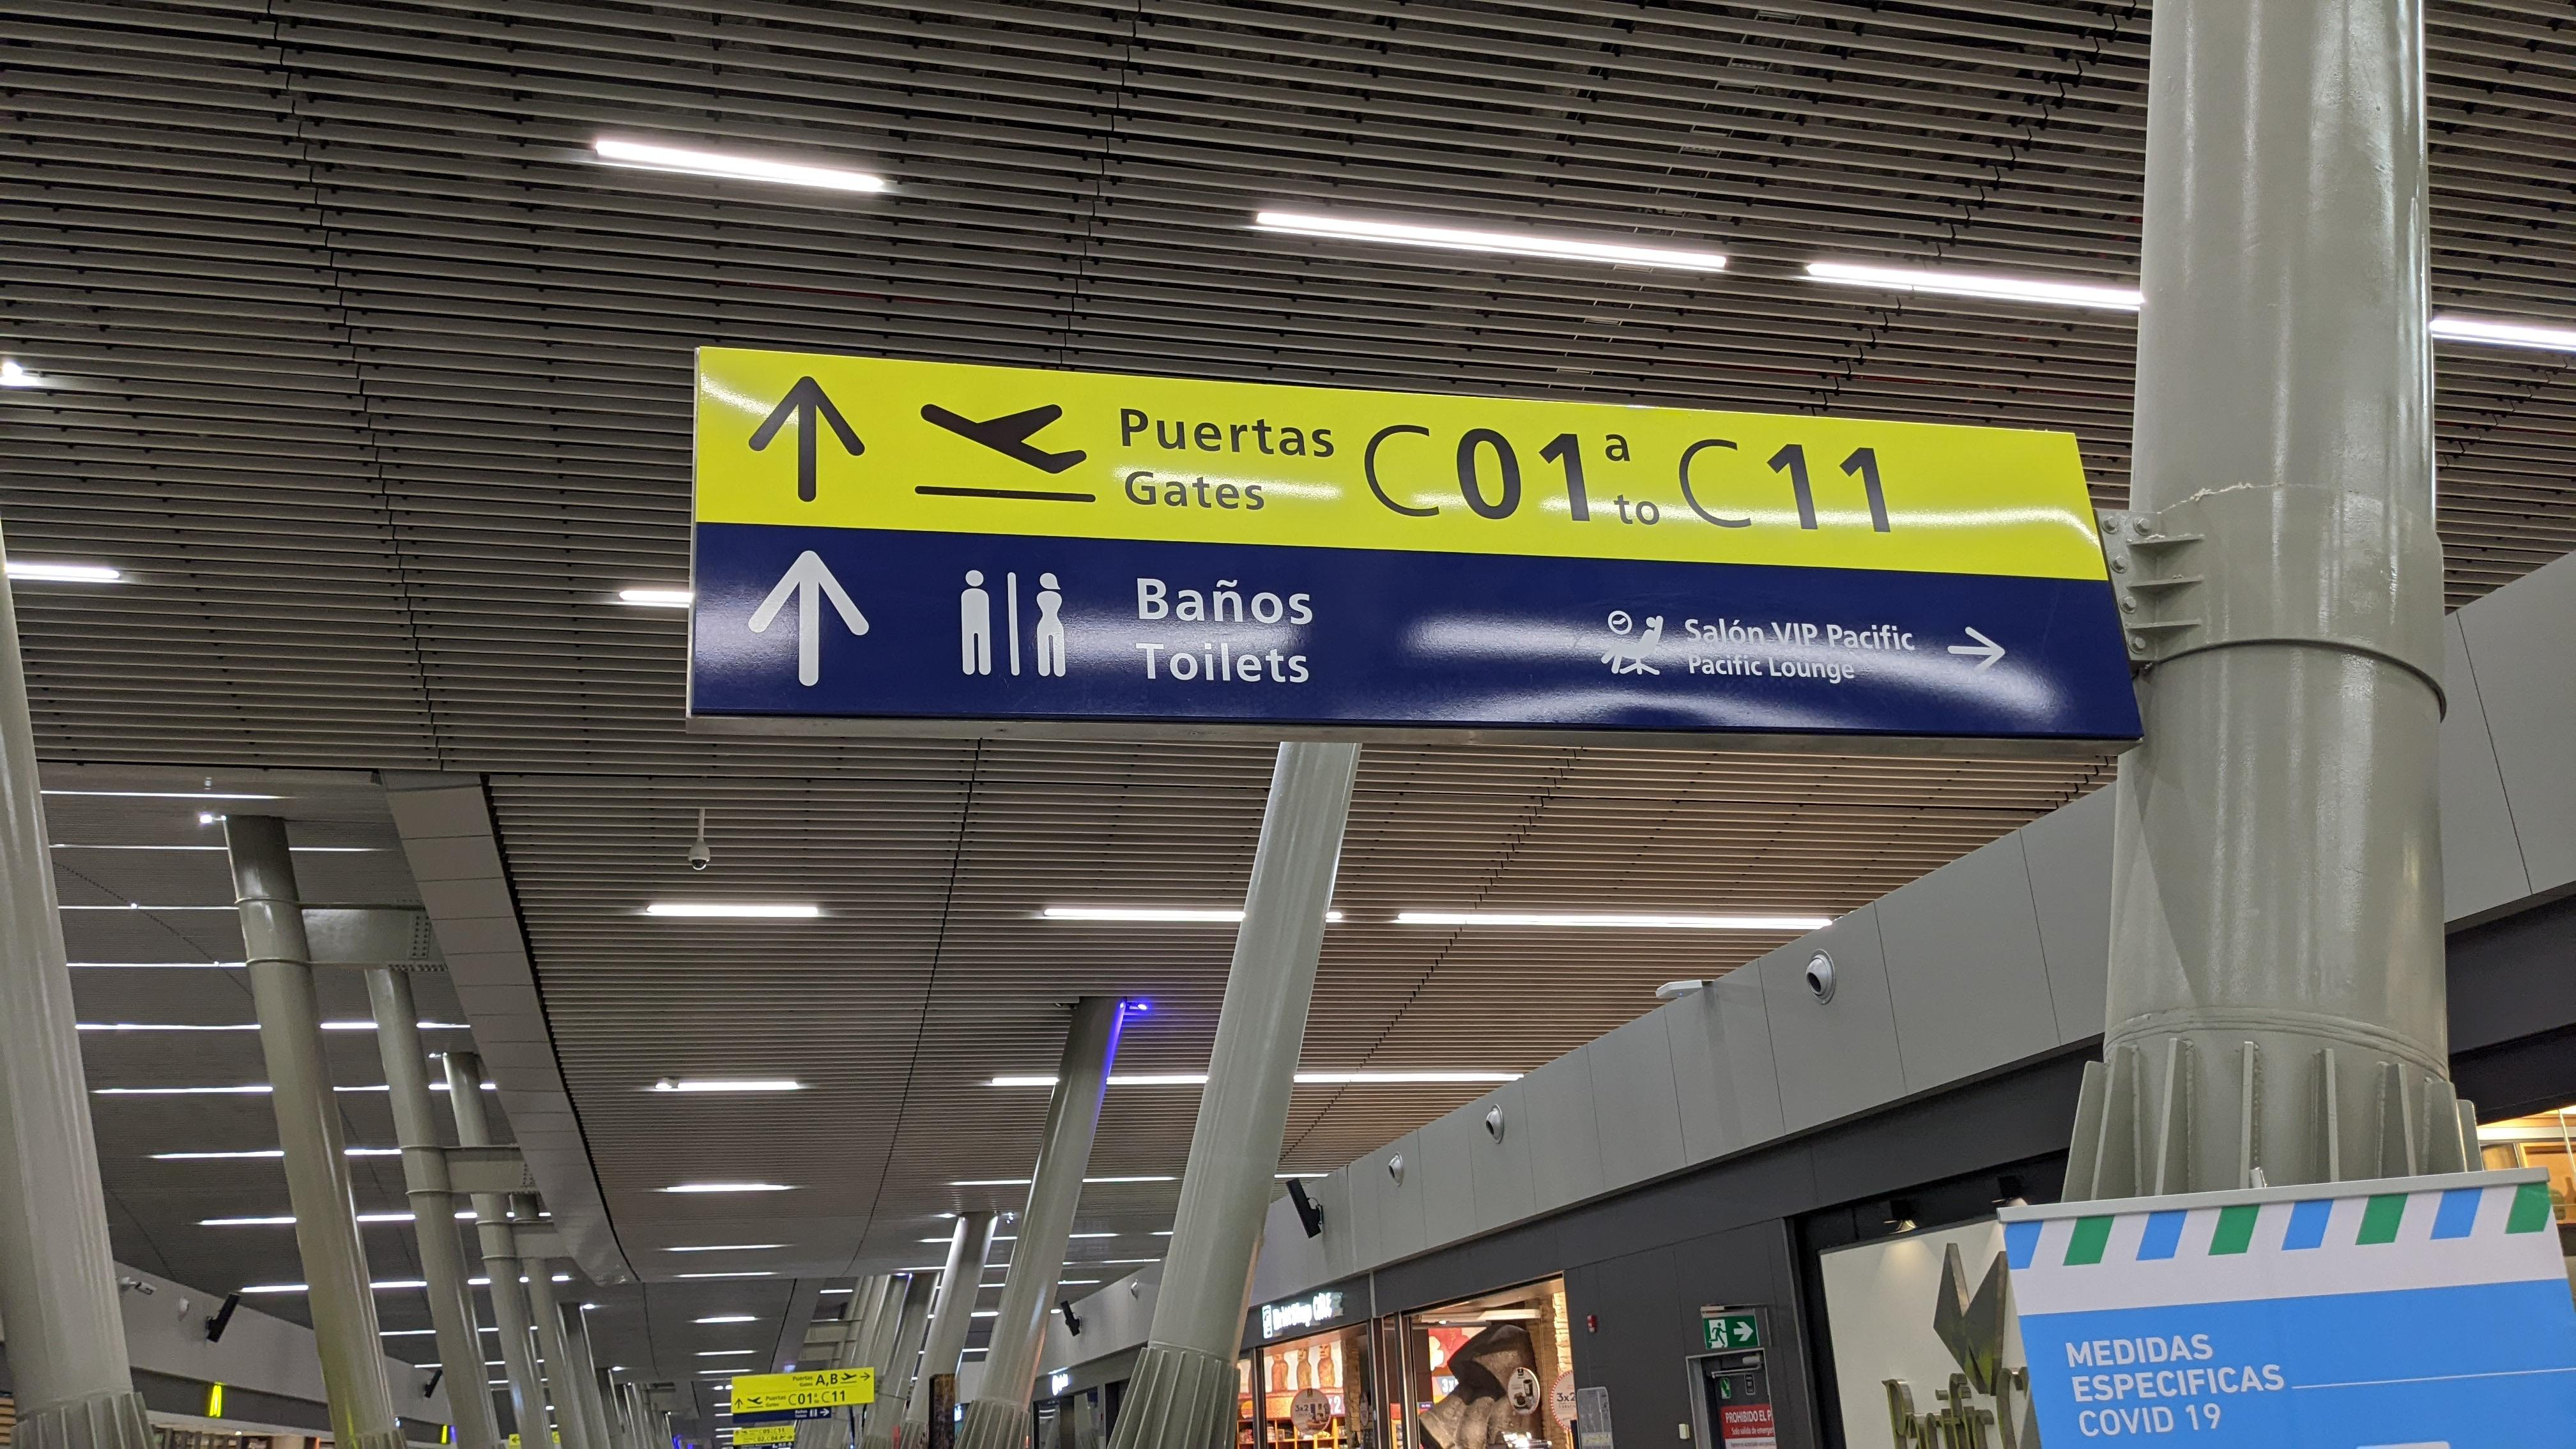airplane symbol: (916, 396, 1090, 479), (840, 1369, 858, 1382), (747, 1394, 764, 1405)
bathrooms: (955, 563, 1072, 683)
thin right arrow: (1941, 619, 2008, 683), (860, 1369, 872, 1382), (819, 1407, 830, 1417)
thin up arrow: (747, 547, 876, 692), (747, 373, 869, 508), (734, 1396, 743, 1410)
